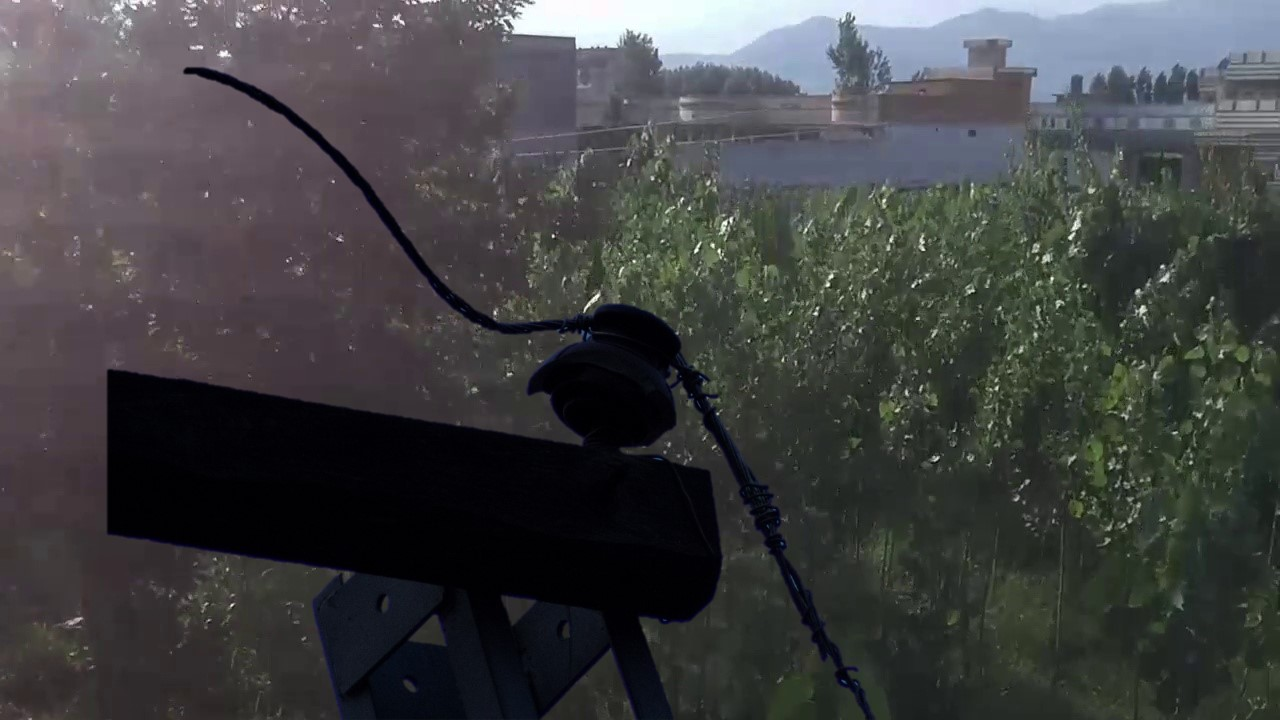defect_pin: (524, 300, 693, 453)
